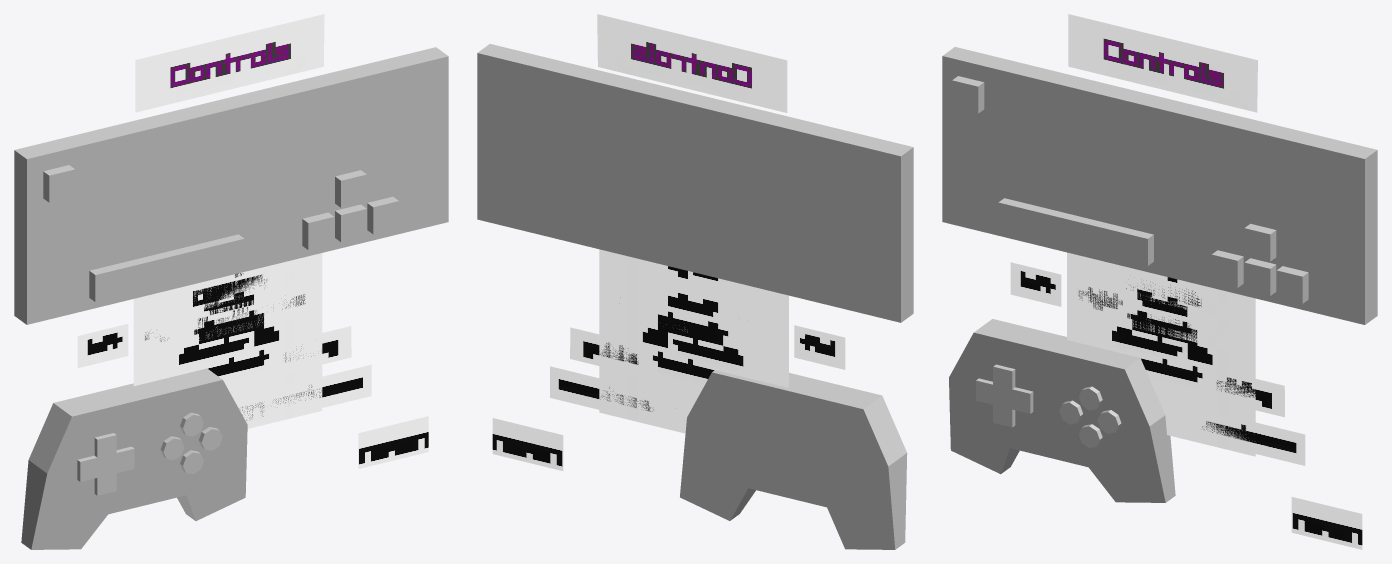
Rendered from menu-01.glb.
3 views of the same model, side by side, from view 1: azimuth 30°, elevation 25°; view 2: azimuth 150°, elevation 25°; view 3: azimuth 330°, elevation 25° (orthographic).
Visible parts, largest first — view 1: keyboard, controller, credits, button-title-controls, button-return, button-controls, button-accelerate, button-left, button-sliding, button-credits, button-bracke; view 2: keyboard, controller, credits, button-title-controls, button-return, button-accelerate, button-sliding, button-left; view 3: keyboard, controller, credits, button-title-controls, button-accelerate, button-return, button-sliding, button-left, button-right, button-credits, button-controls.
Part boxes in pixels (box(x1,y1,x2,y2)): keyboard: box(14, 47, 448, 324); controller: box(21, 368, 247, 549); credits: box(133, 253, 322, 428); button-title-controls: box(135, 14, 324, 112); button-return: box(358, 416, 428, 468); button-controls: box(160, 260, 293, 320); button-accelerate: box(260, 364, 371, 408); button-left: box(77, 324, 128, 368); button-sliding: box(273, 326, 351, 375); button-credits: box(161, 290, 294, 341); button-bracke: box(261, 277, 311, 320); keyboard: box(477, 44, 913, 322); controller: box(680, 370, 907, 549); credits: box(599, 249, 788, 433); button-title-controls: box(597, 14, 787, 112); button-return: box(492, 418, 563, 470); button-accelerate: box(550, 366, 661, 424); button-sliding: box(570, 327, 648, 377); button-left: box(794, 325, 845, 369); keyboard: box(942, 47, 1377, 324); controller: box(949, 319, 1175, 502); credits: box(1067, 252, 1255, 456); button-title-controls: box(1068, 14, 1257, 112); button-accelerate: box(1193, 407, 1305, 465); button-return: box(1291, 497, 1362, 549); button-sliding: box(1206, 367, 1284, 417); button-left: box(1010, 262, 1061, 306); button-right: box(1073, 277, 1130, 323); button-credits: box(1094, 311, 1228, 350); button-controls: box(1108, 279, 1228, 319).
Bounding box in the file's own units: 3.64 × 3.87 × 0.3376.
Materials: 1 (1 with a texture image).
